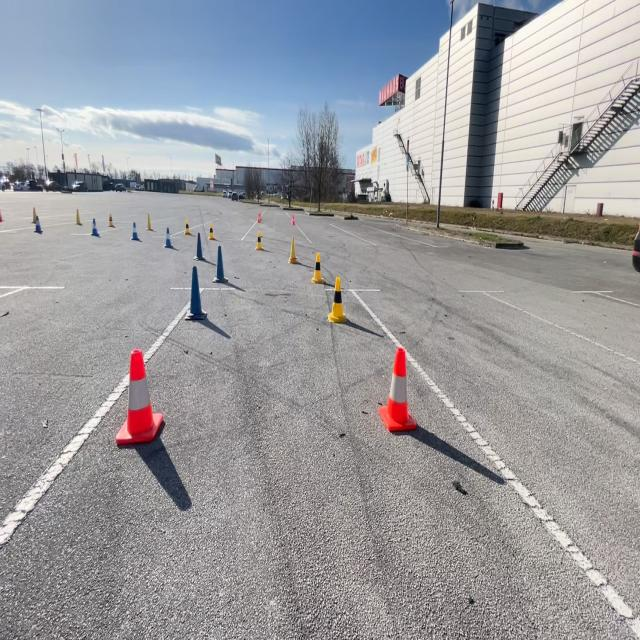blue_cone: (184, 262, 208, 320), (211, 243, 228, 283), (194, 230, 206, 261), (162, 225, 174, 248), (130, 220, 141, 242), (34, 208, 43, 233), (90, 215, 100, 237)
orange_cone: (114, 346, 161, 446), (378, 344, 418, 433), (0, 203, 5, 221), (290, 212, 296, 225), (256, 211, 263, 222)
yellow_cone: (327, 274, 348, 323), (309, 252, 324, 284), (285, 234, 298, 264), (254, 228, 264, 251), (207, 222, 217, 242), (106, 208, 114, 228), (74, 207, 83, 224), (184, 217, 192, 236), (146, 211, 154, 230)
